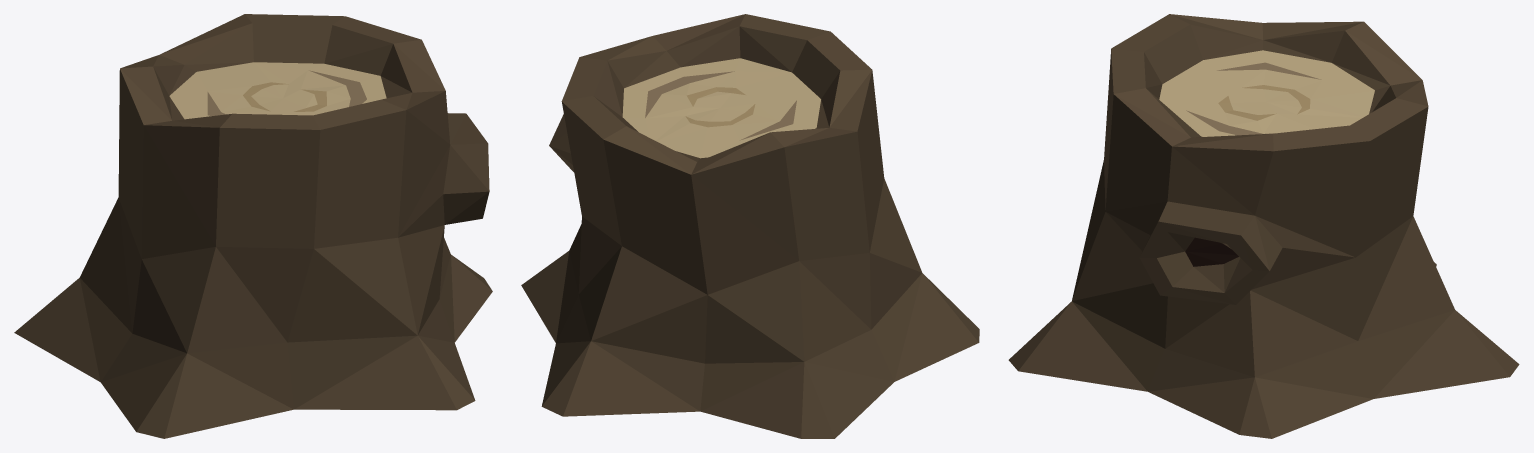
Rendered from tree_stump.glb.
The picture shows the model from 3 angles, left to right: view 1: azimuth 30°, elevation 25°; view 2: azimuth 150°, elevation 25°; view 3: azimuth 270°, elevation 25°; orthographic projection. The views are drawn at different scales.
Visible parts, largest first — view 1: SM_Env_TreeStump_01; view 2: SM_Env_TreeStump_01; view 3: SM_Env_TreeStump_01.
Part boxes in pixels (left/top/right/bottom): SM_Env_TreeStump_01: left=14, top=14, right=492, bottom=438; SM_Env_TreeStump_01: left=521, top=14, right=979, bottom=438; SM_Env_TreeStump_01: left=1008, top=14, right=1519, bottom=438.
Size of the model in its own units: 144 by 91.91 by 152.
1 material, 1 textured.
